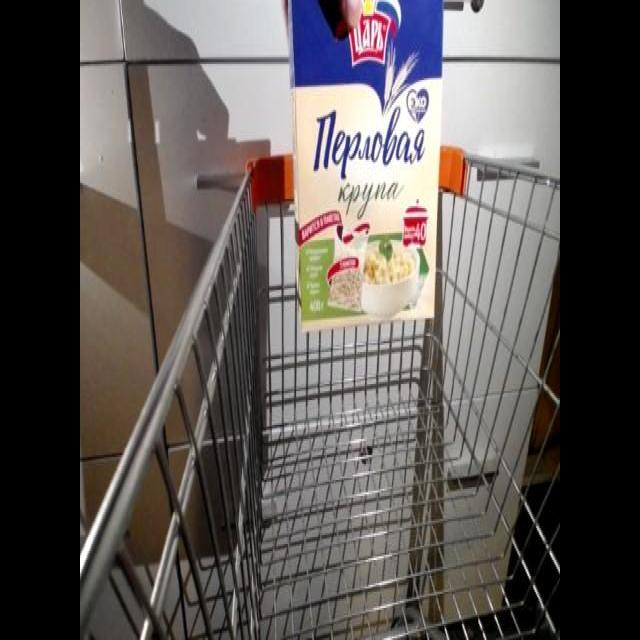Groats: (281, 2, 447, 334)
